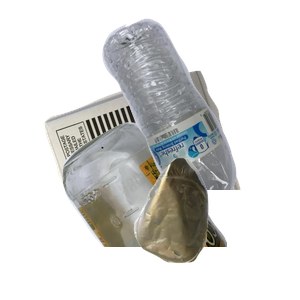glass: (60, 120, 300, 300)
paper: (42, 68, 275, 248)
plastic: (100, 16, 300, 196)
trash: (131, 155, 300, 300)
